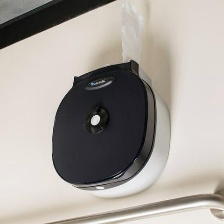plastic_box: (45, 54, 178, 204)
tissue: (115, 0, 148, 74)
